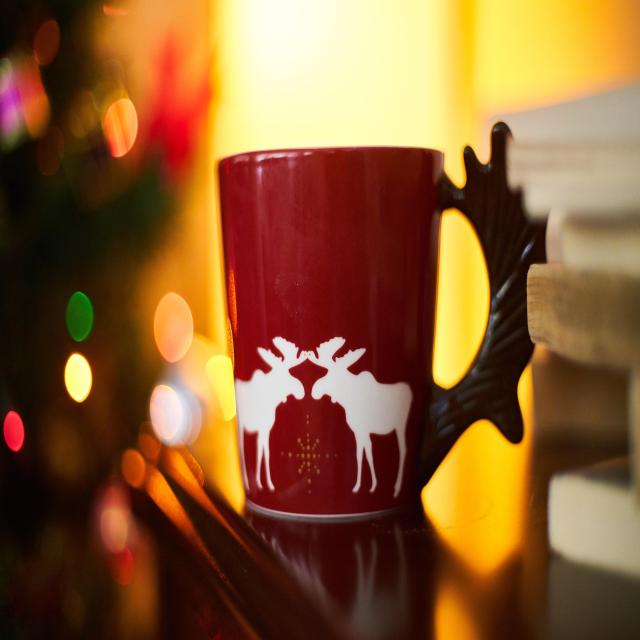Red_cup: (219, 124, 541, 517)
